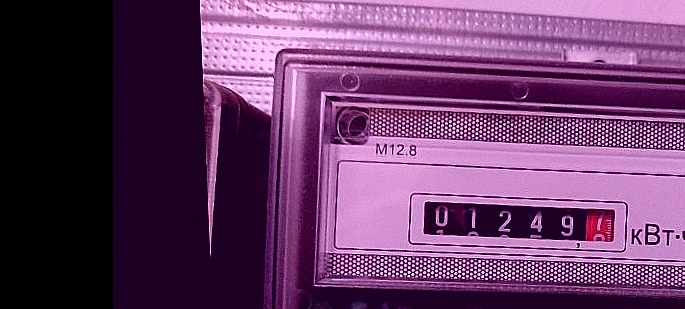0: (434, 201, 452, 228)
1: (466, 203, 481, 230)
2: (496, 208, 514, 235)
4: (529, 208, 546, 233)
7: (593, 206, 609, 233)
9: (558, 211, 576, 238)
screen: (406, 182, 633, 264)
